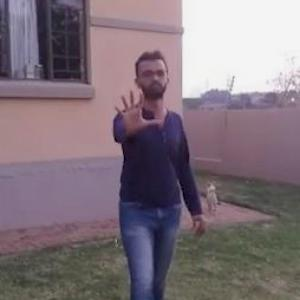follow_hand: (110, 83, 164, 139)
